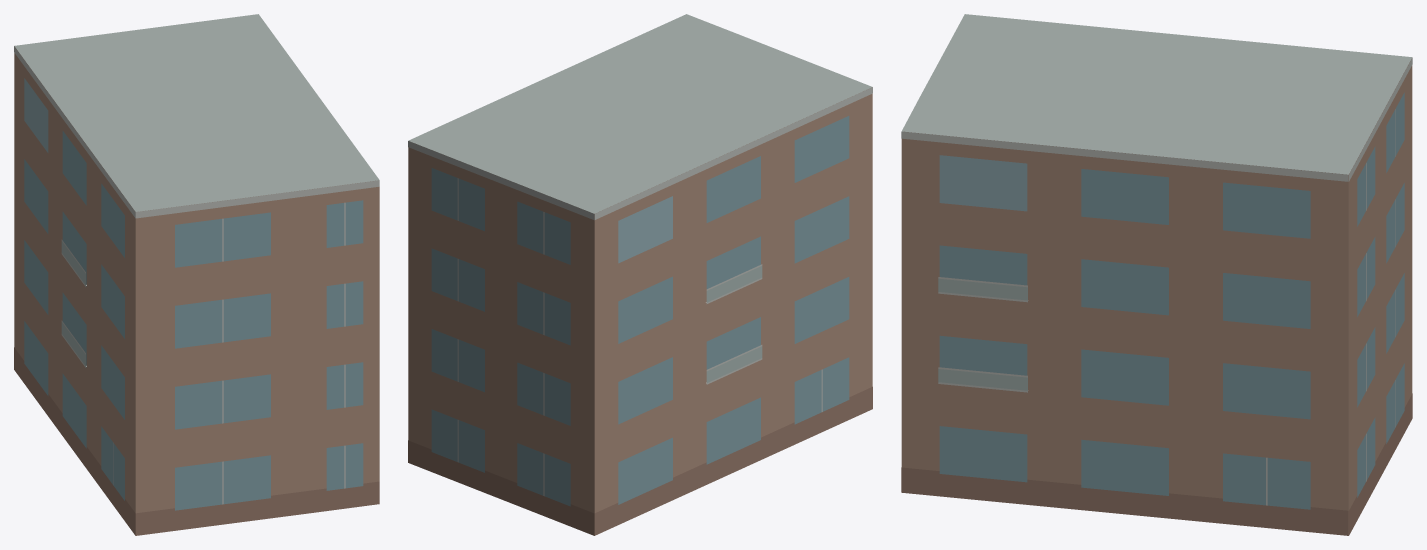
Rendered from residential-7111833d-6a10-41ef-b437-5a9db67cf845.glb.
The picture shows the model from 3 angles, left to right: view 1: azimuth 30°, elevation 25°; view 2: azimuth 150°, elevation 25°; view 3: azimuth 270°, elevation 25°; orthographic projection. The views are drawn at different scales.
Visible parts, largest first — view 1: residential-7111833d-6a10-41ef-b437-5a9db67cf845.tmp; view 2: residential-7111833d-6a10-41ef-b437-5a9db67cf845.tmp; view 3: residential-7111833d-6a10-41ef-b437-5a9db67cf845.tmp.
Boxes of the visible parts, left/top/right/bottom form: residential-7111833d-6a10-41ef-b437-5a9db67cf845.tmp: left=14, top=14, right=379, bottom=535; residential-7111833d-6a10-41ef-b437-5a9db67cf845.tmp: left=408, top=14, right=872, bottom=535; residential-7111833d-6a10-41ef-b437-5a9db67cf845.tmp: left=901, top=14, right=1412, bottom=535.
Bounding box in the file's own units: 11.65 × 12.2 × 15.65.
